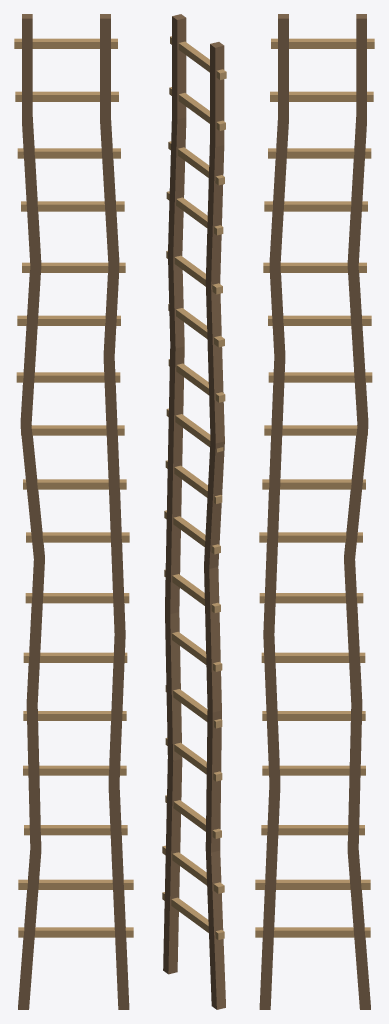
Rendered from Hut_4_Ladder.fbx.
3 views of the same model, side by side, from view 1: azimuth 90°, elevation 25°; view 2: azimuth 210°, elevation 25°; view 3: azimuth 270°, elevation 25° (orthographic). The views are drawn at different scales.
Parts seen in each view (by area): view 1: Hut_4_Ladder; view 2: Hut_4_Ladder; view 3: Hut_4_Ladder.
Part boxes in pixels (left/top/right/bottom): Hut_4_Ladder: left=14, top=14, right=133, bottom=1009; Hut_4_Ladder: left=162, top=14, right=226, bottom=1009; Hut_4_Ladder: left=255, top=14, right=374, bottom=1009.
Bounding box in the file's own units: 6.3 × 630 × 68.65.
1 material, 1 textured.
